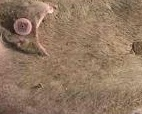text: (8, 15, 39, 40)
